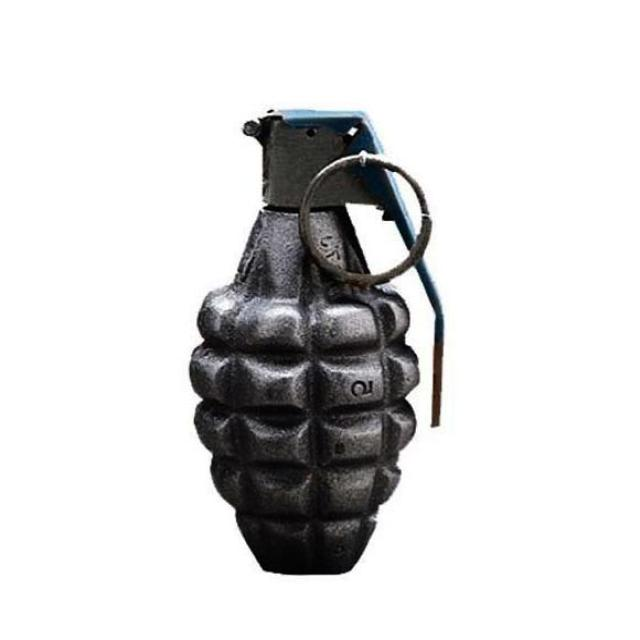grenade: (190, 110, 446, 578)
